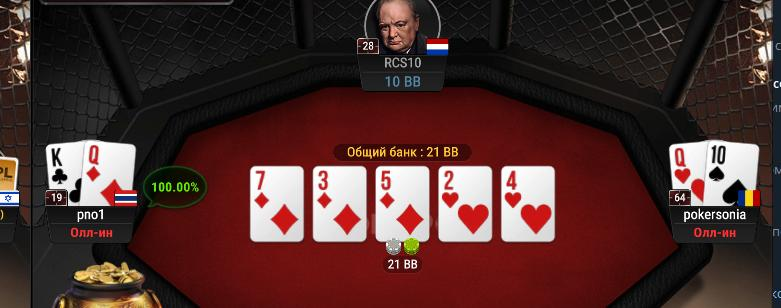10s: (706, 142, 757, 206)
2h: (438, 167, 492, 242)
3d: (314, 166, 366, 241)
4h: (501, 168, 553, 241)
5d: (377, 166, 429, 243)
7d: (249, 167, 303, 242)
Kc: (46, 140, 86, 207)
Qd: (84, 141, 134, 207)
Qh: (669, 143, 707, 204)
